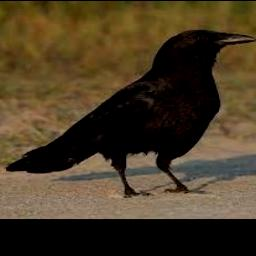Crow: (6, 30, 256, 197)
